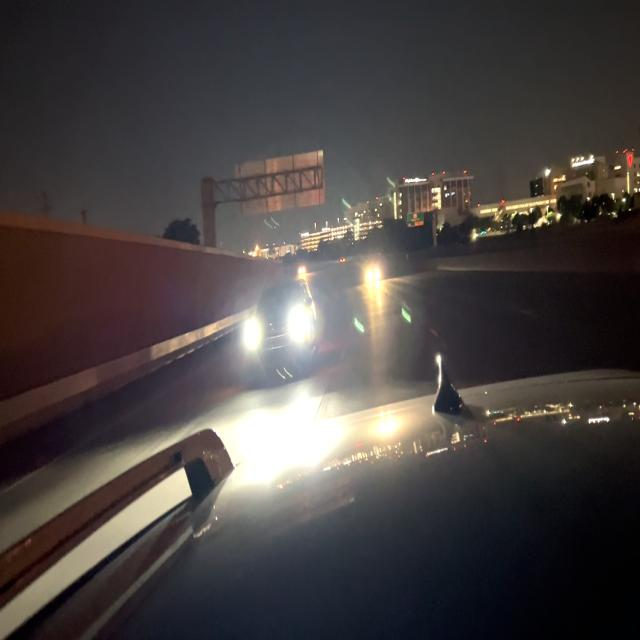back-of-sign: (234, 147, 326, 218)
